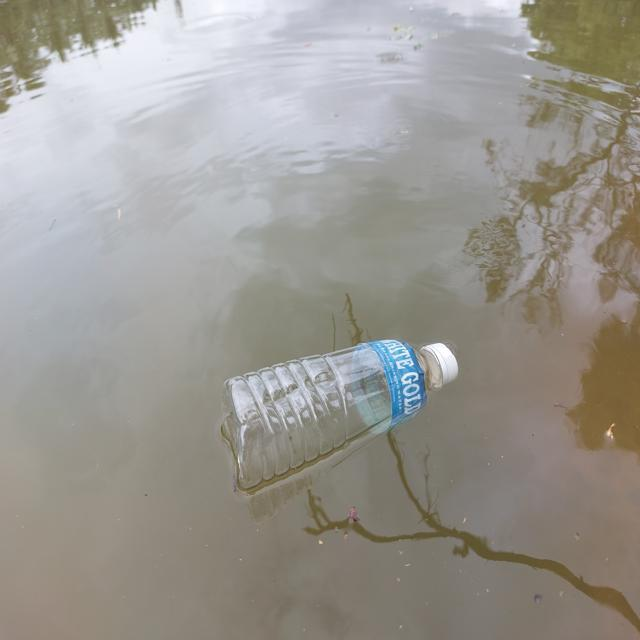waterbottle: (188, 338, 472, 486)
